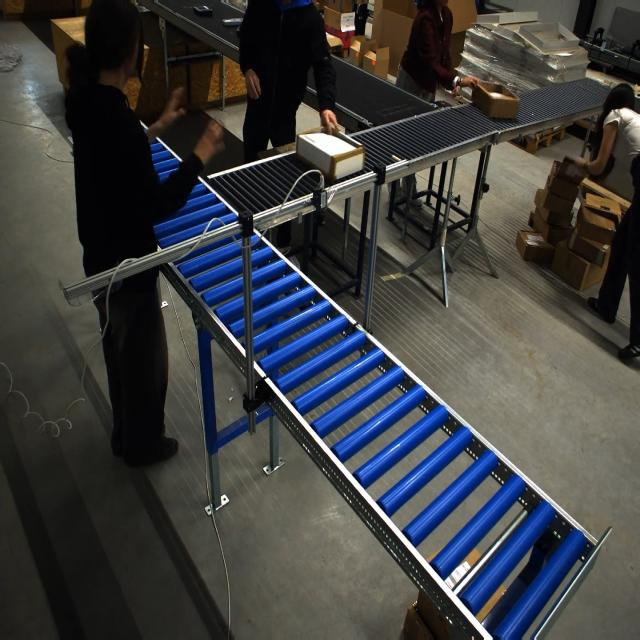box: (300, 120, 365, 181), (518, 21, 584, 55), (470, 80, 519, 119)
product: (193, 5, 213, 16), (222, 18, 243, 26)
